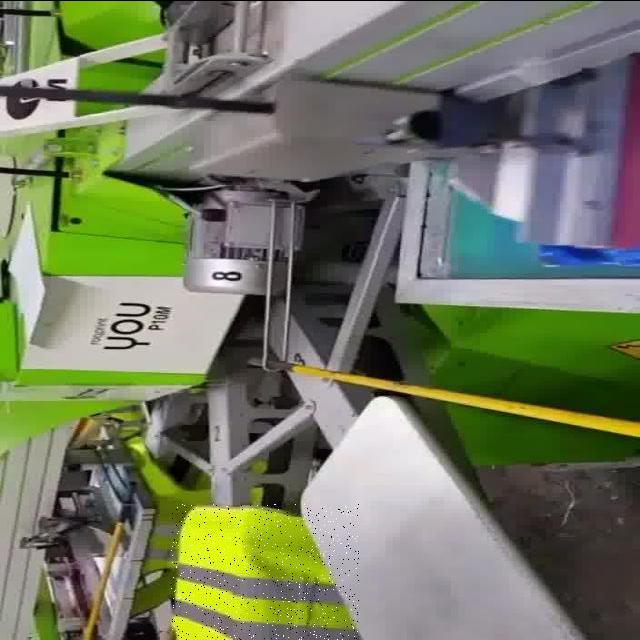vest: (171, 503, 359, 639)
